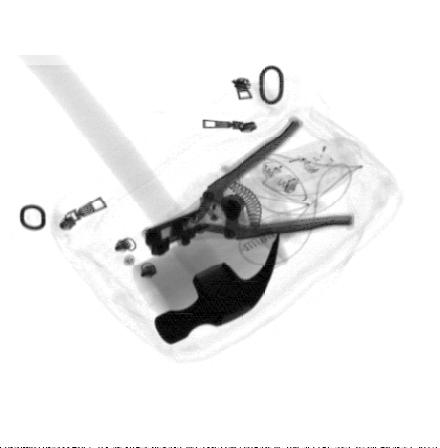Hammer: (18, 40, 280, 345)
Pliers: (139, 115, 353, 257)
